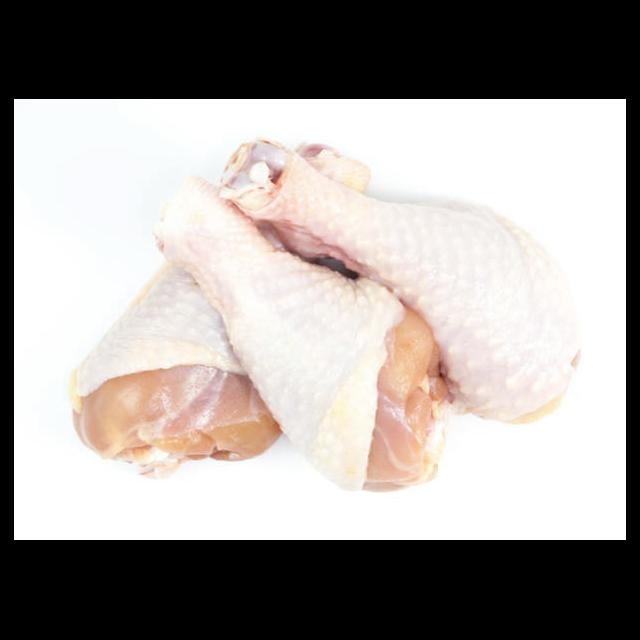chicken: (222, 134, 585, 423), (69, 145, 372, 488), (156, 174, 457, 493)
